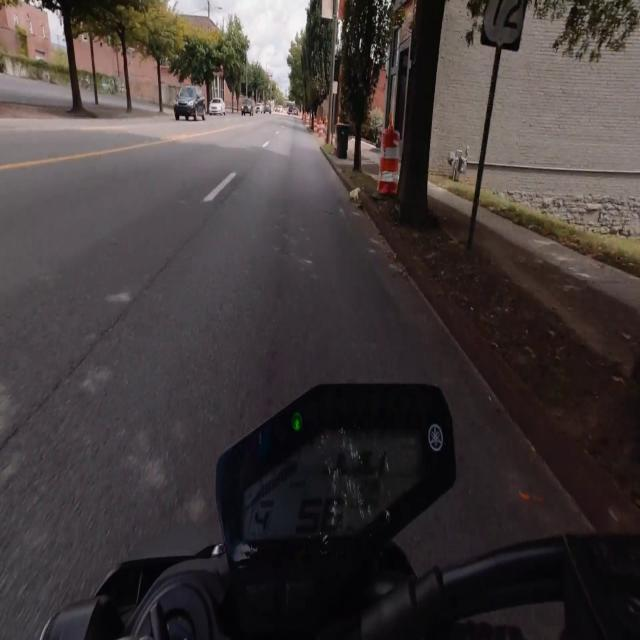car: (174, 86, 205, 120), (209, 98, 225, 115), (241, 99, 254, 115), (263, 103, 272, 114), (255, 103, 263, 113)
motorcycle: (41, 385, 639, 639)
